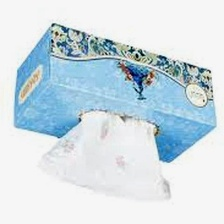book: (9, 20, 220, 166)
tissue: (33, 106, 173, 207)
